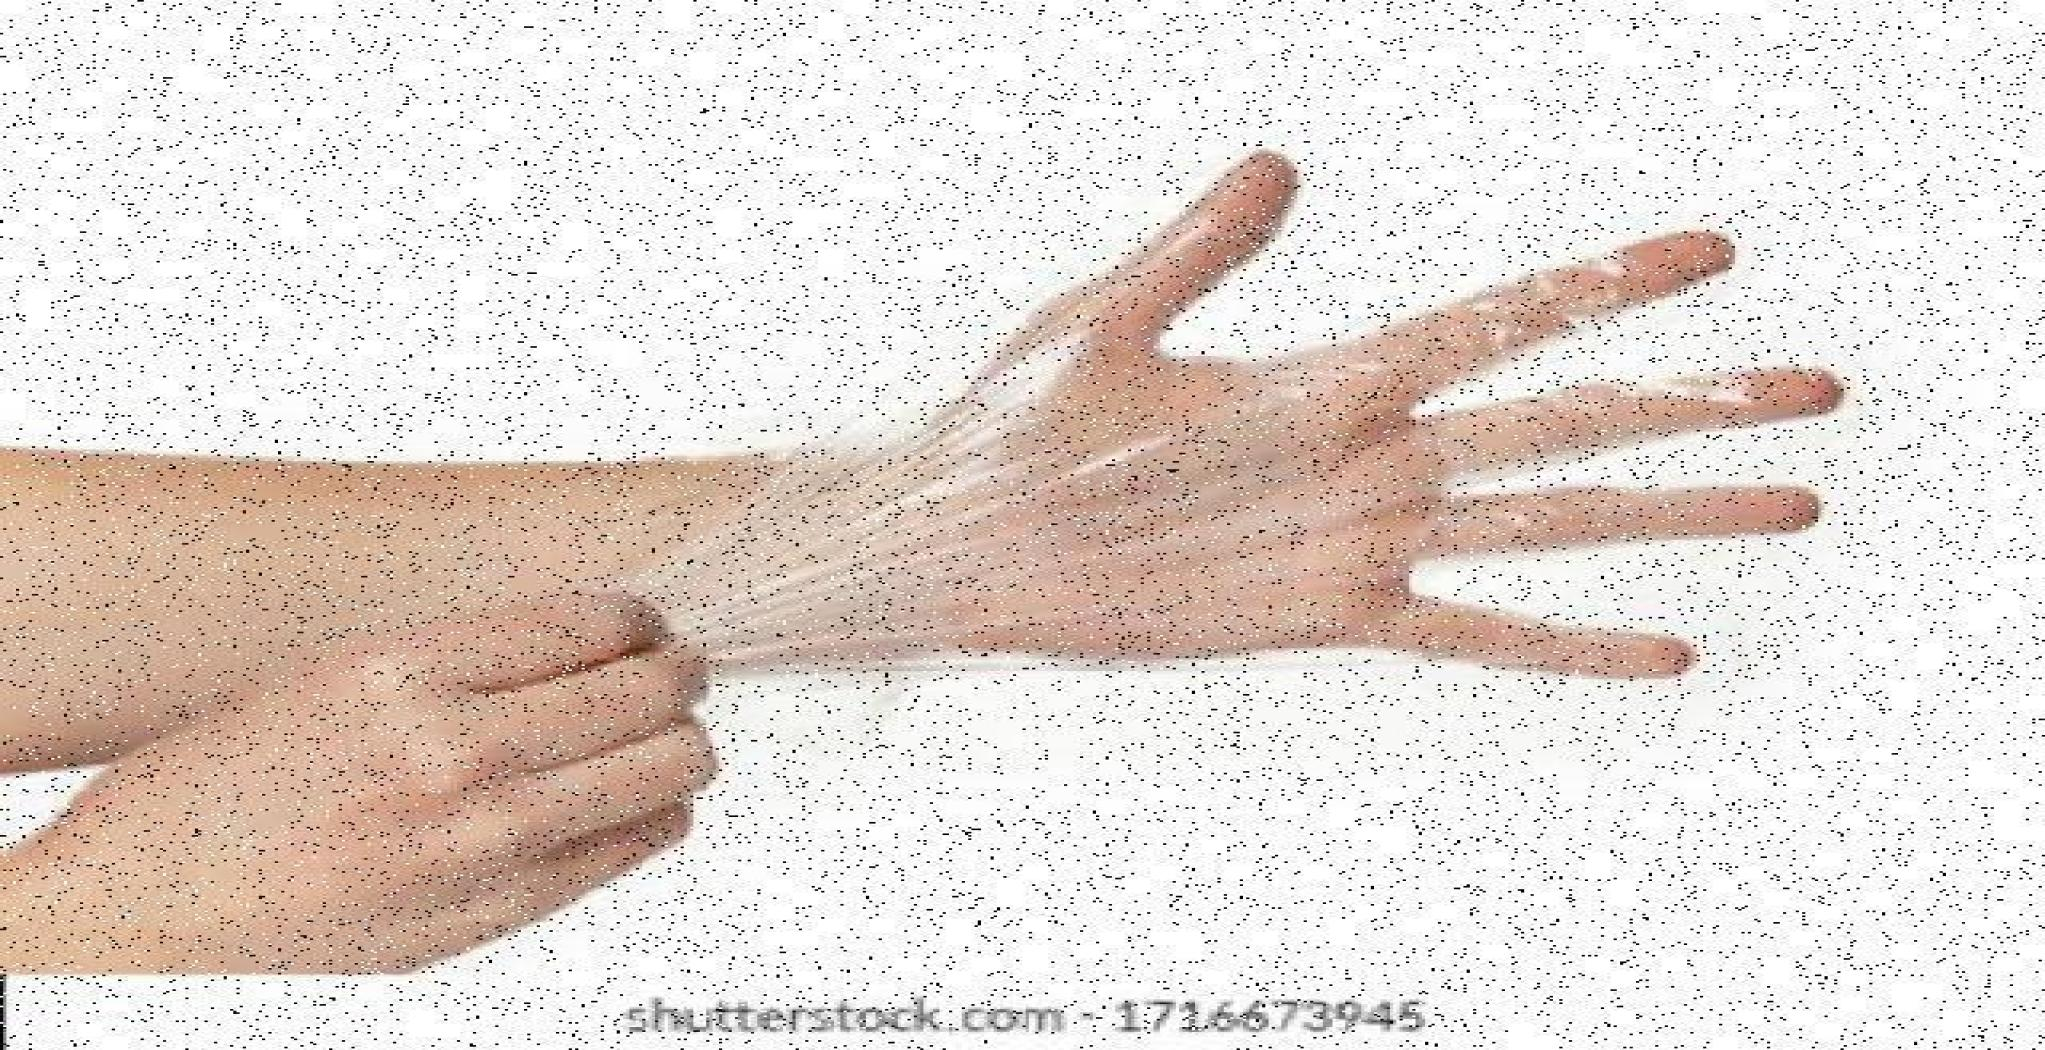gloved: (832, 154, 1856, 687)
